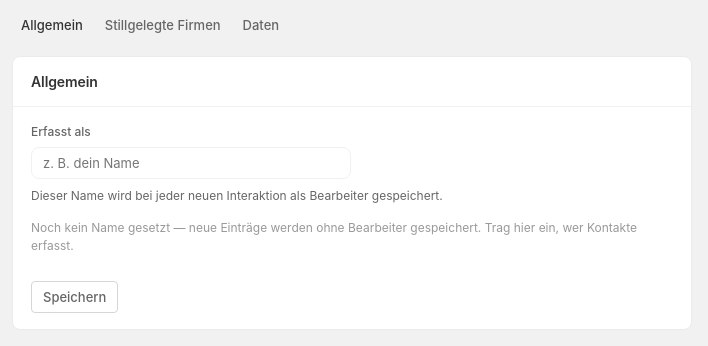
it: Einstellungen › shows the empty-state copy when stillgelegte is empty
Step 1. Click the button "Stillgelegte Firmen" → {"x": 163, "y": 25}, box [96,12,230,38]
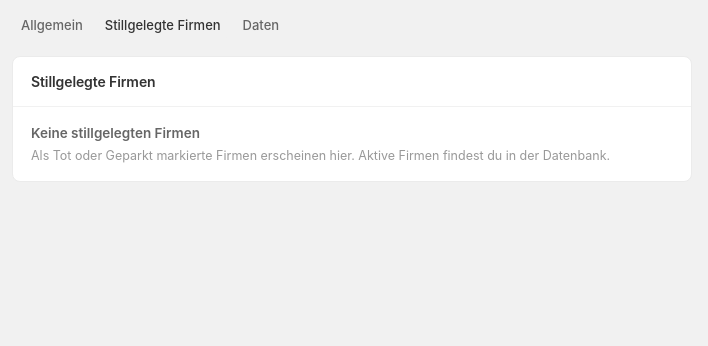
expect the text "Keine stillgelegten Firmen" is shown: met, box [31,125,200,141]
